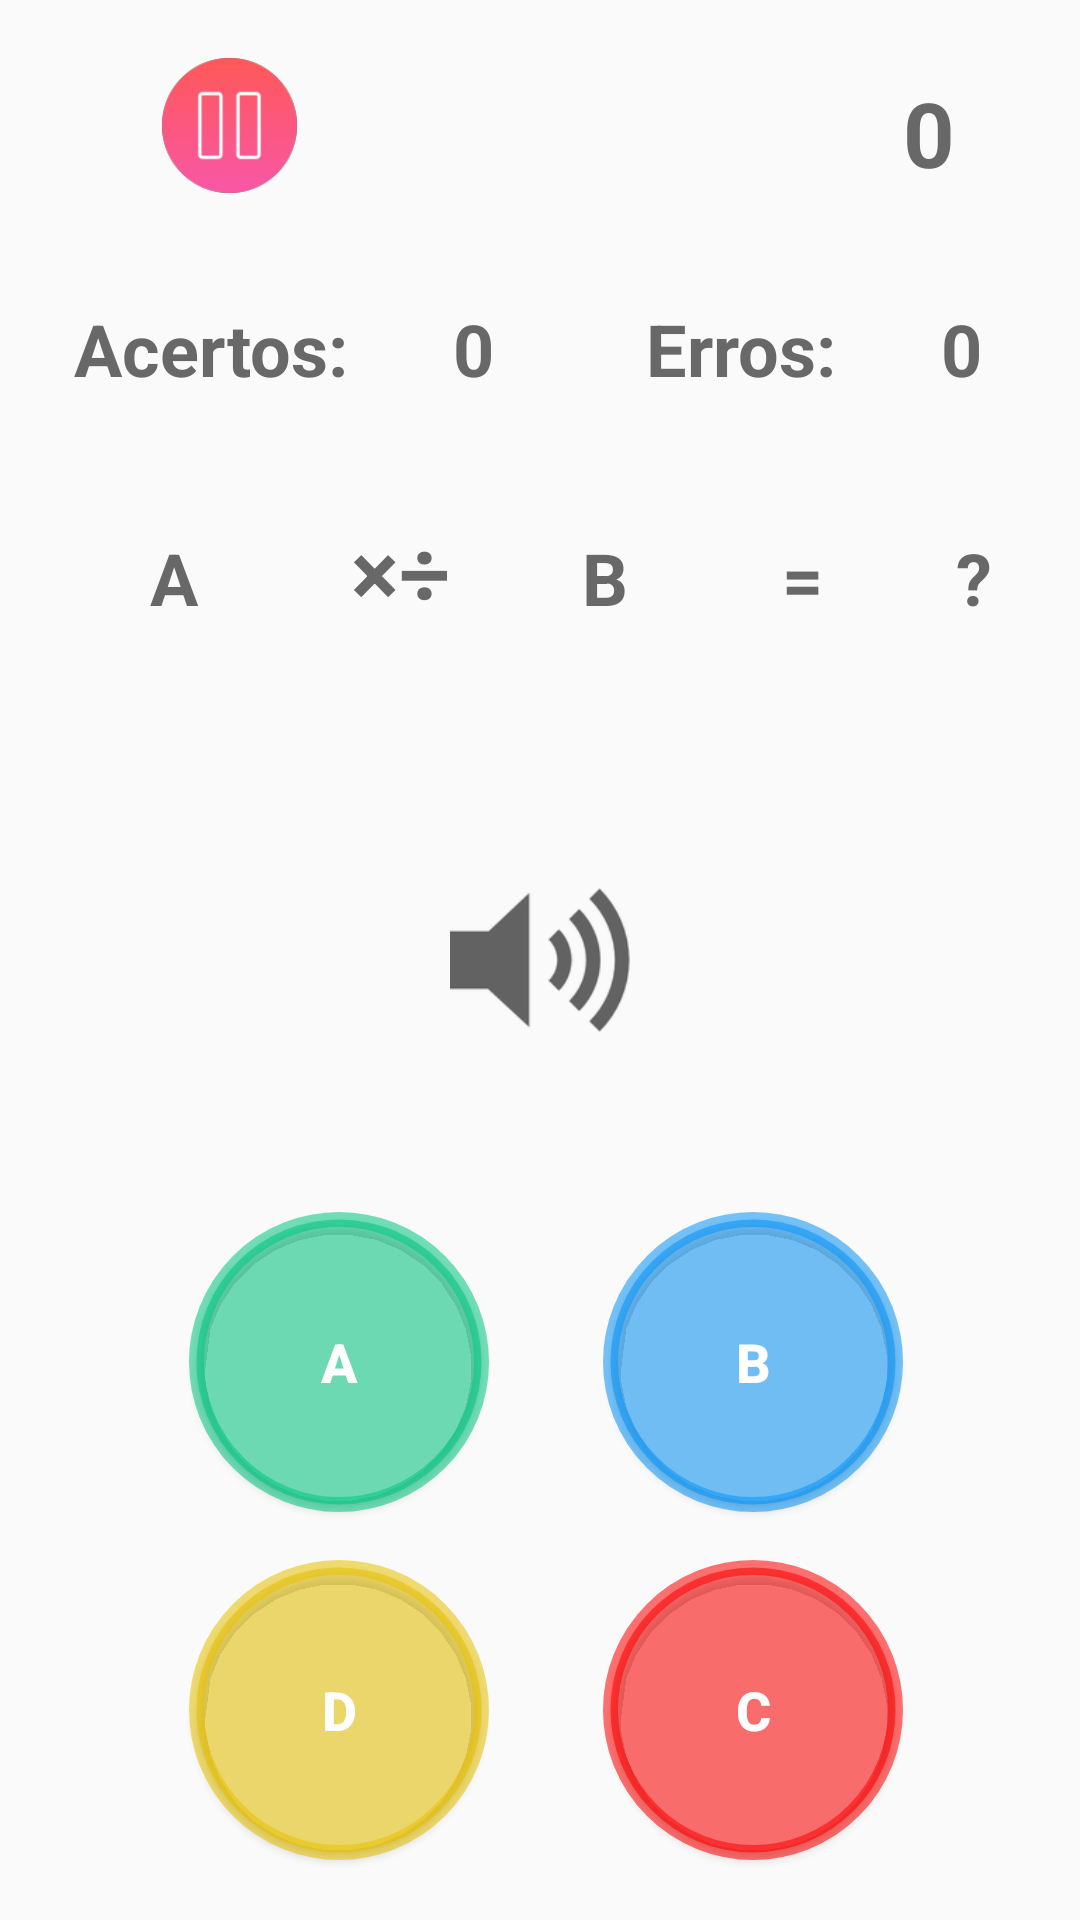

Named icons in this screenshot (1080 × 1920) and their centers, (x=x, y=y):
audio: (x=540, y=960)
pause: (x=229, y=125)
